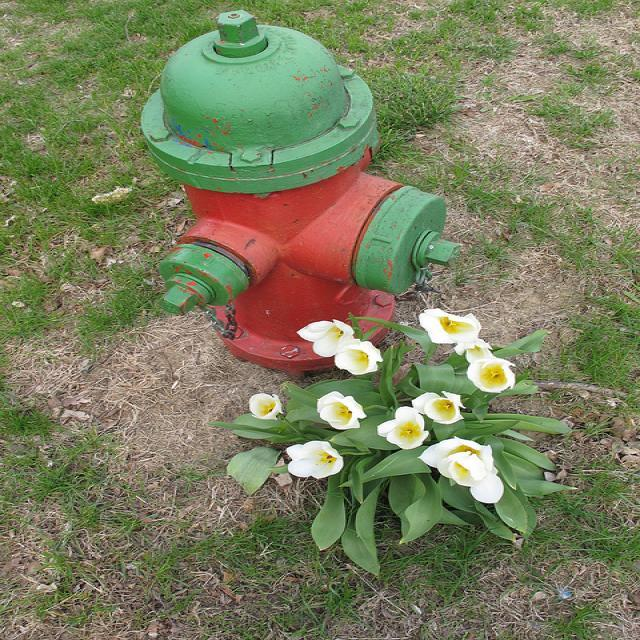fire_hydrant: (138, 13, 464, 368)
